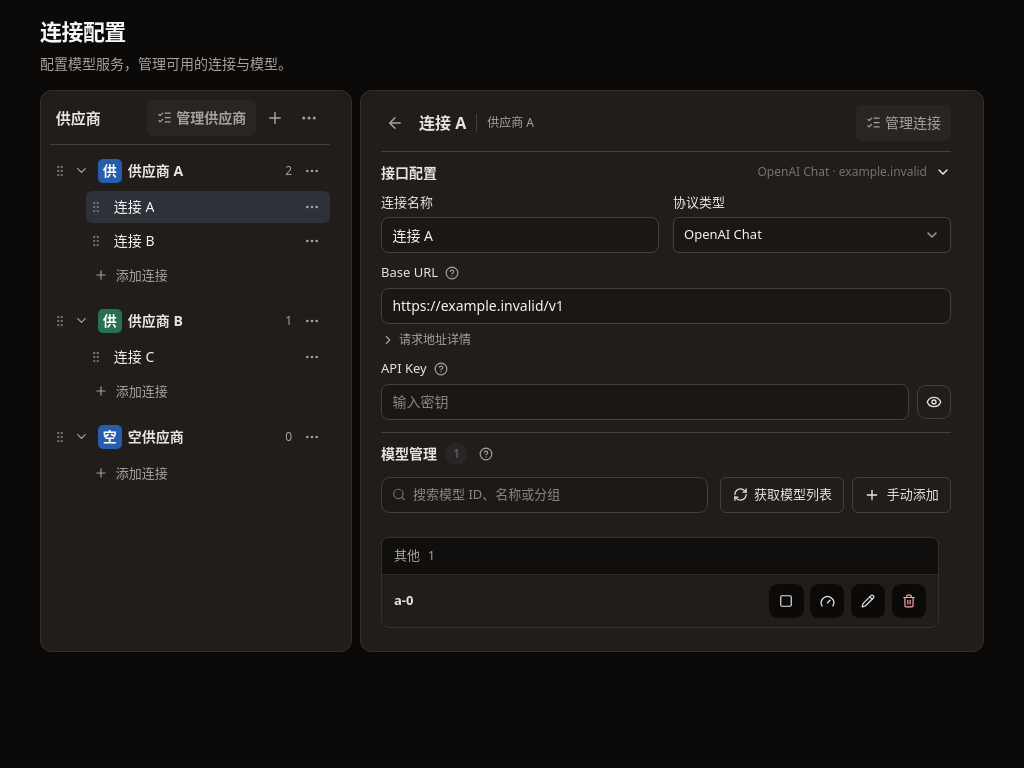
Scenario: ConnectionSettings batch management › allows cancellation after generation begins without losing the selected connection
Click the button "管理连接". click: (904, 123)
box: [856,105,951,141]
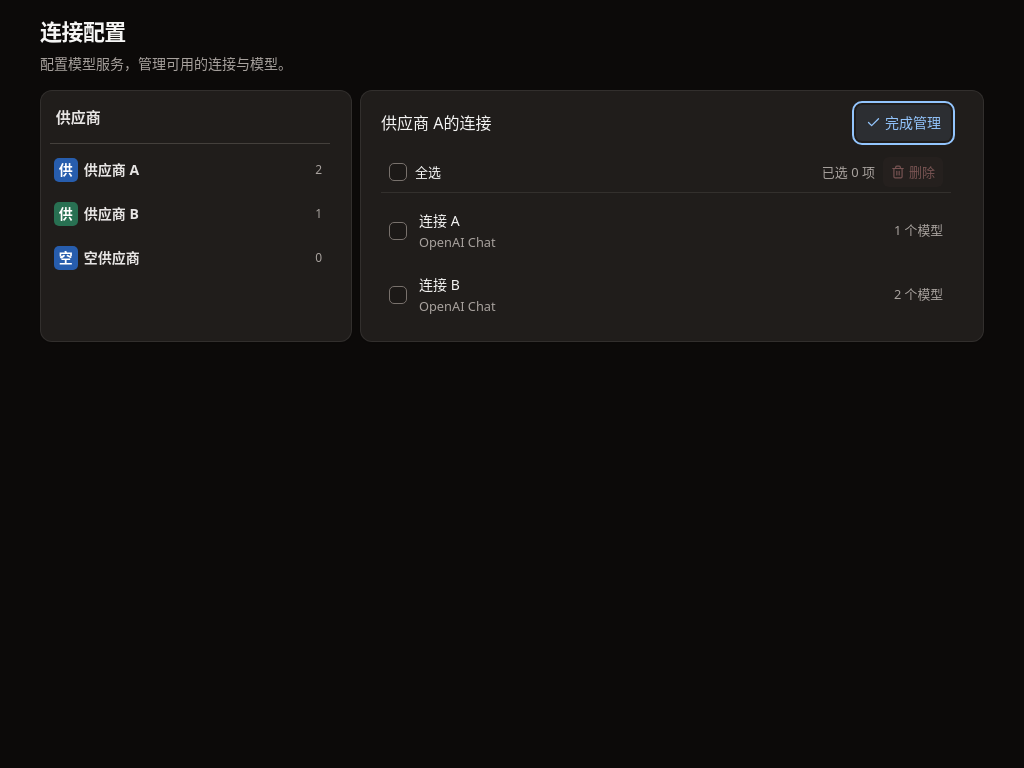
Click the checkbox labelled "连接 A OpenAI Chat 1 个模型". click: (398, 231)
box: [389,222,407,240]
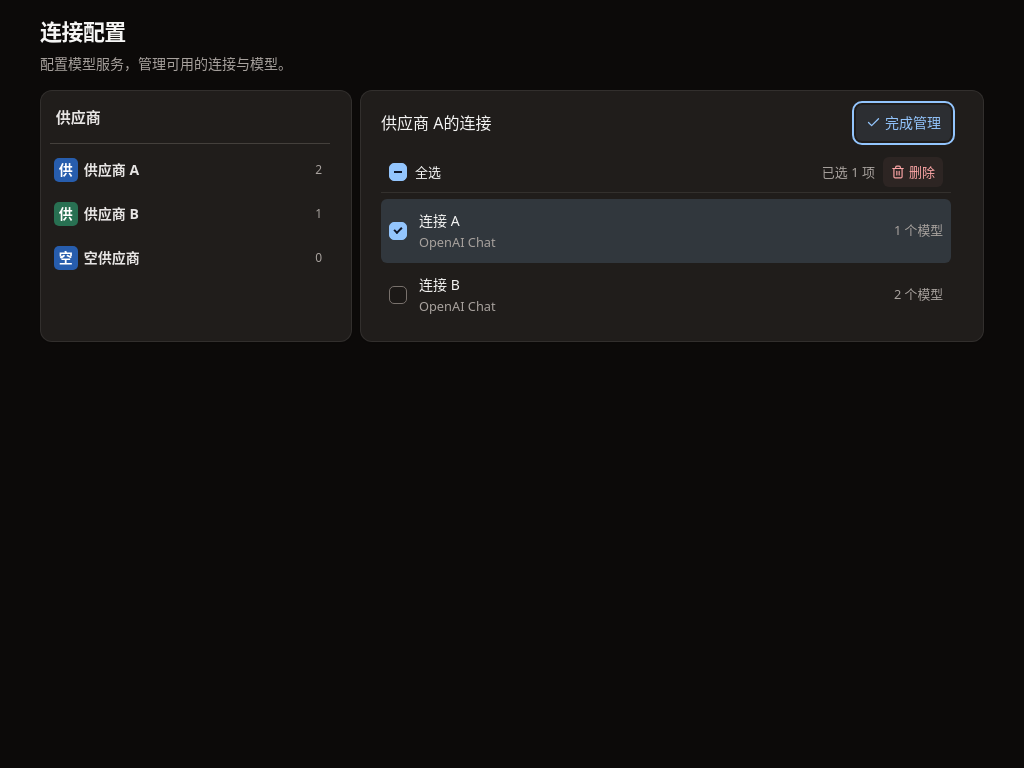
Check: the button "删除" is shown
Click the button "删除". click: (913, 172)
box: [883,157,943,187]
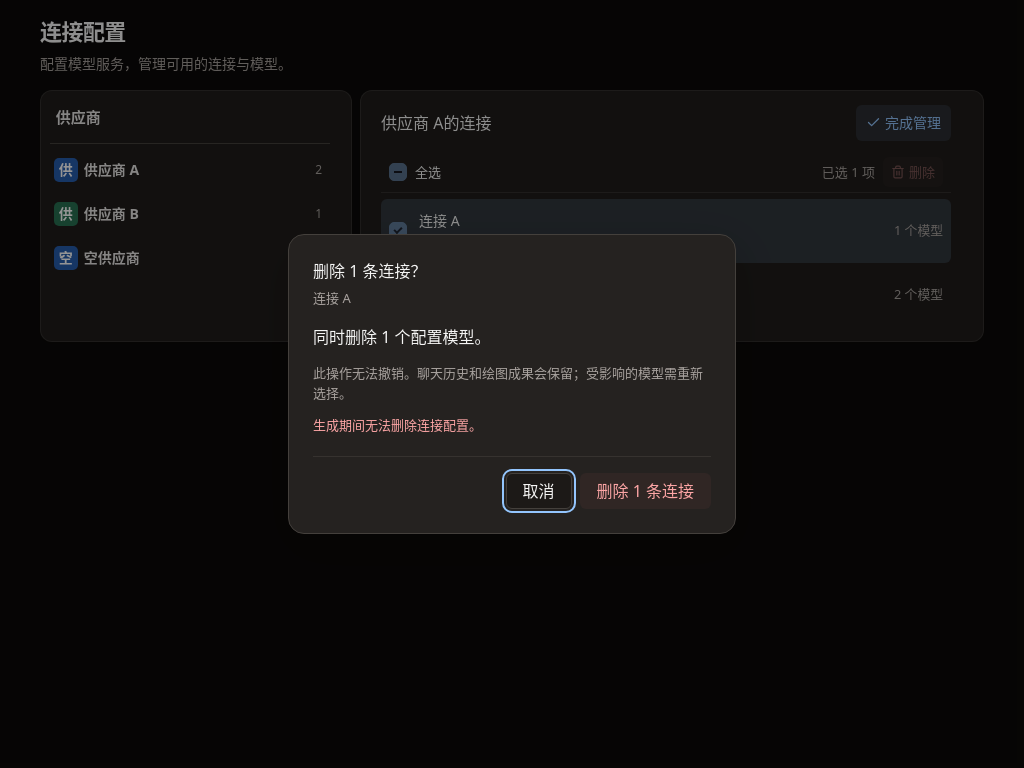
Check: the button with class "confirmation-accept" is disabled, box [580,473,711,509]
Check: the button "取消" is enabled
Check: the number of dialogs is 1, box [288,234,736,534]
Click the button "取消". click: (538, 491)
box: [506,473,572,509]
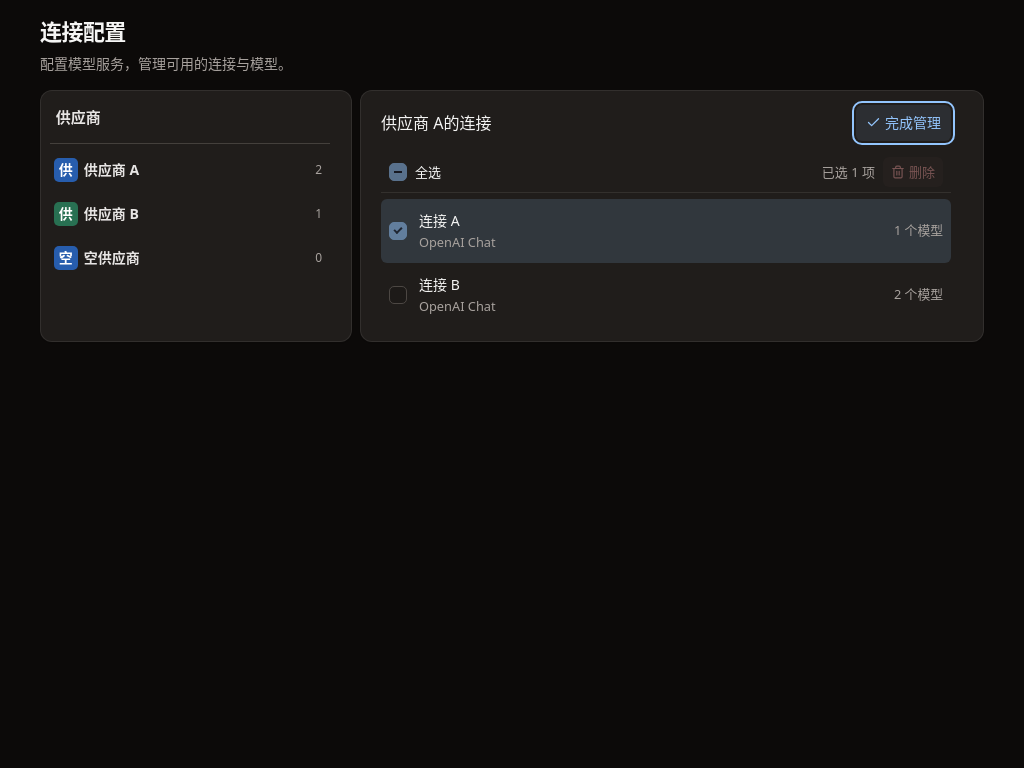
Check: the dialog is gone
